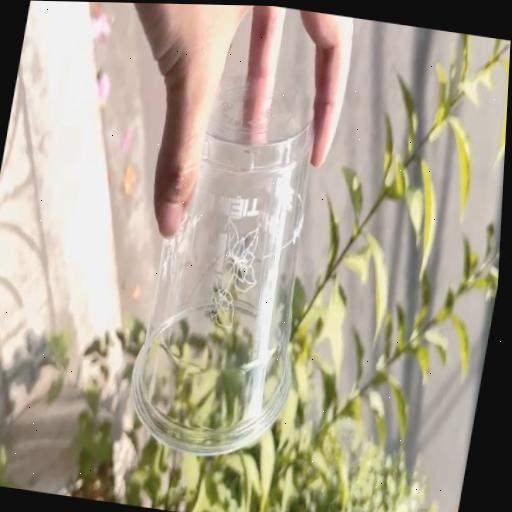ly_giay: (132, 73, 313, 455)
